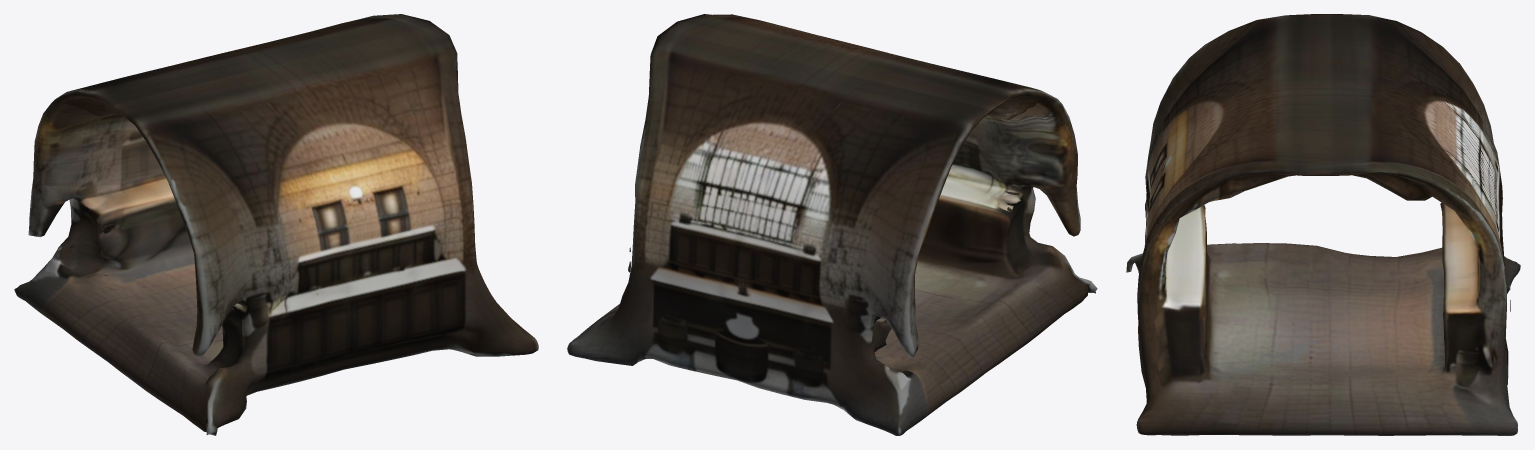
Rendered from tunnel1.fbx.
3 views of the same model, side by side, from view 1: azimuth 30°, elevation 25°; view 2: azimuth 150°, elevation 25°; view 3: azimuth 270°, elevation 25° (orthographic).
Visible parts, largest first — view 1: tripo_node_c77df7d5; view 2: tripo_node_c77df7d5; view 3: tripo_node_c77df7d5.
Boxes of the visible parts, x1,y1,x2,y2 form: tripo_node_c77df7d5: [14, 14, 538, 435]; tripo_node_c77df7d5: [567, 14, 1097, 435]; tripo_node_c77df7d5: [1126, 14, 1520, 435].
Size of the model in its own units: 68.2 by 50.35 by 68.37.
Materials: 1 (1 with a texture image).
